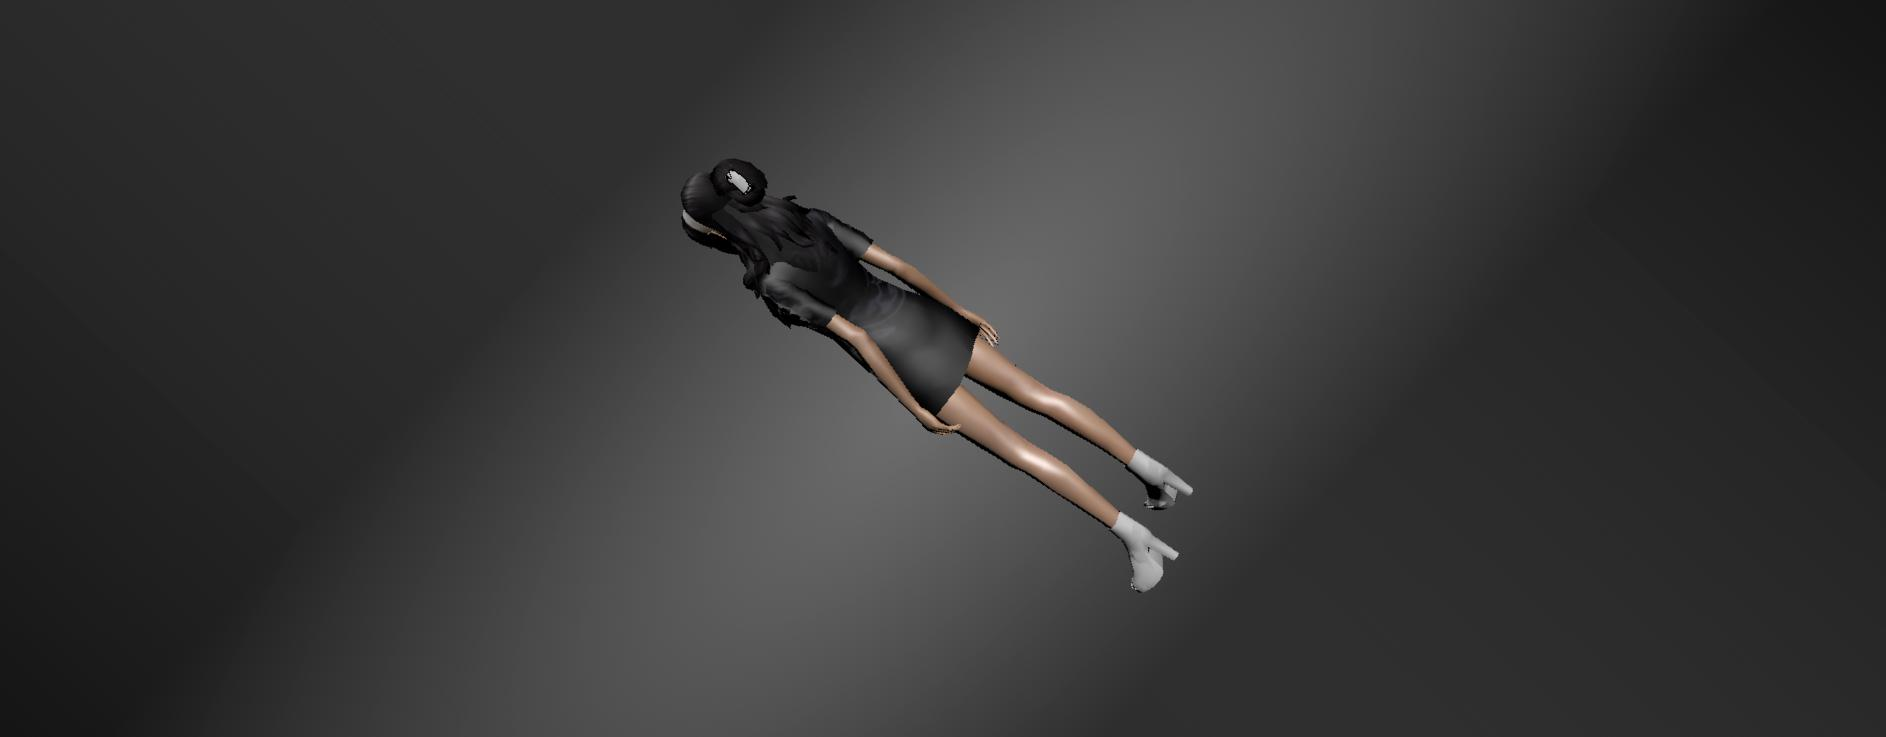clip: (720, 171, 759, 198)
